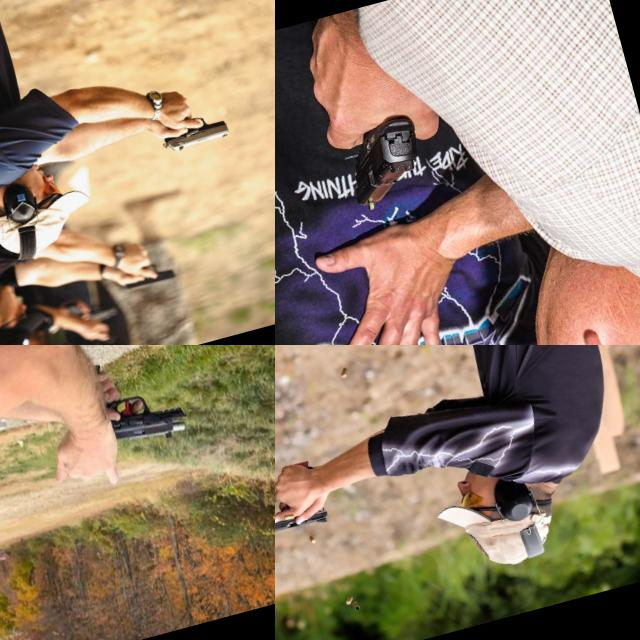handgun: (322, 84, 434, 218), (70, 345, 191, 458), (275, 454, 332, 545), (154, 101, 232, 158), (117, 252, 180, 293)
